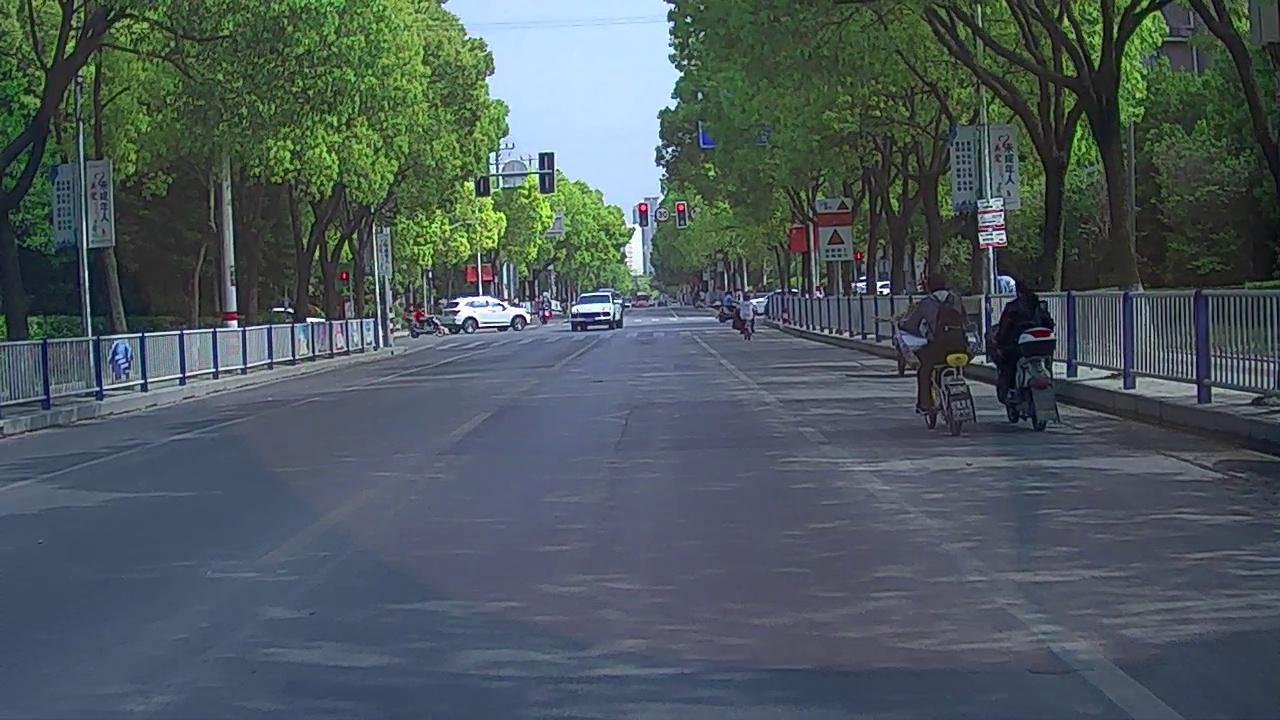traffic_light: (677, 201, 686, 227), (639, 202, 648, 226)
